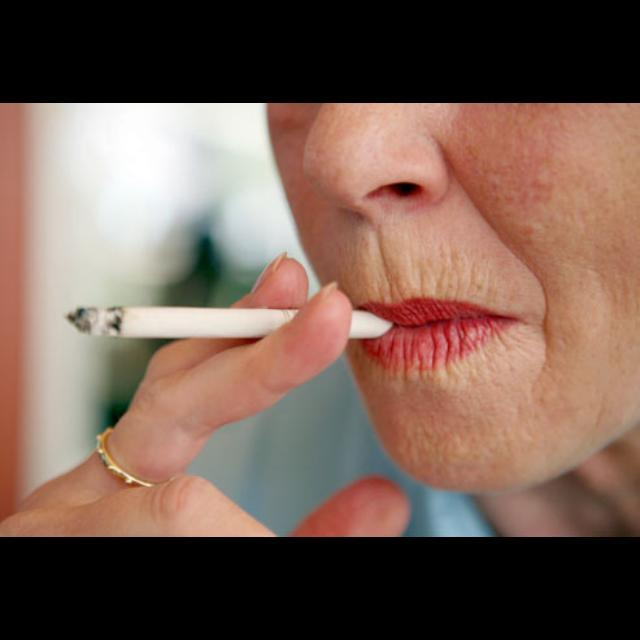rokok: (46, 292, 306, 368)
